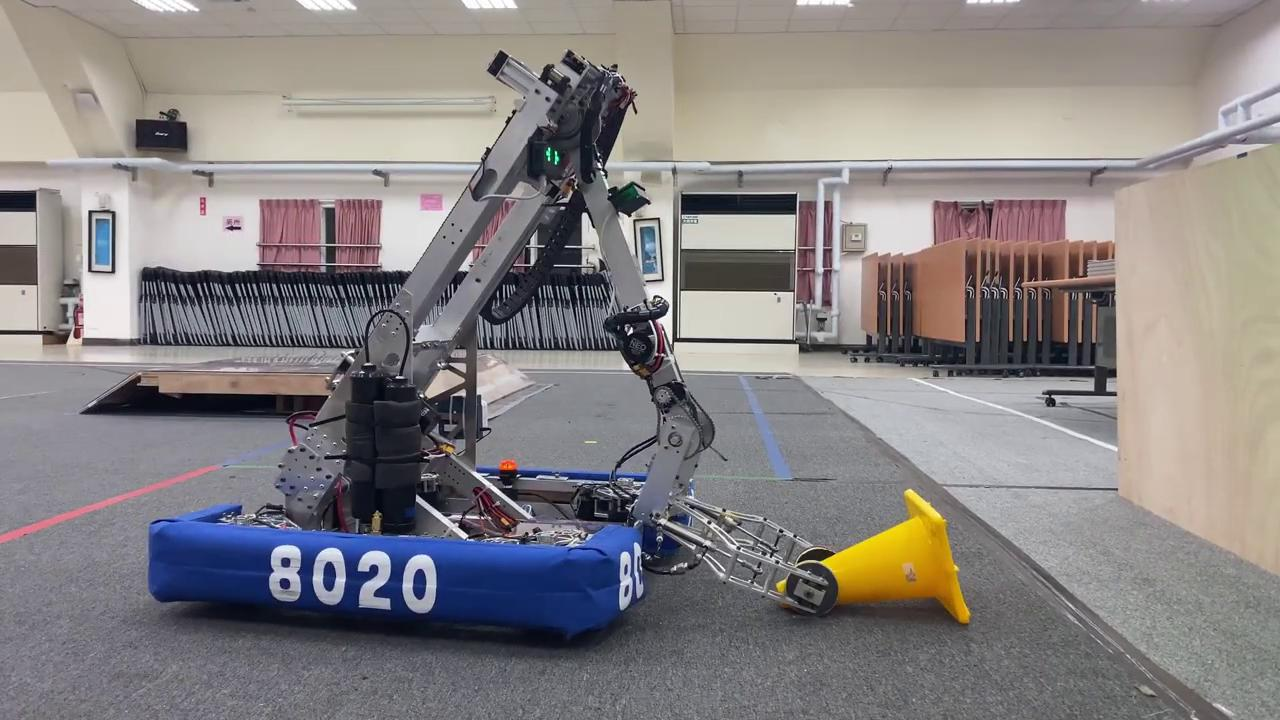robot: (134, 121, 689, 663)
